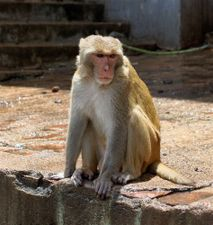monkey: (38, 33, 202, 206)
